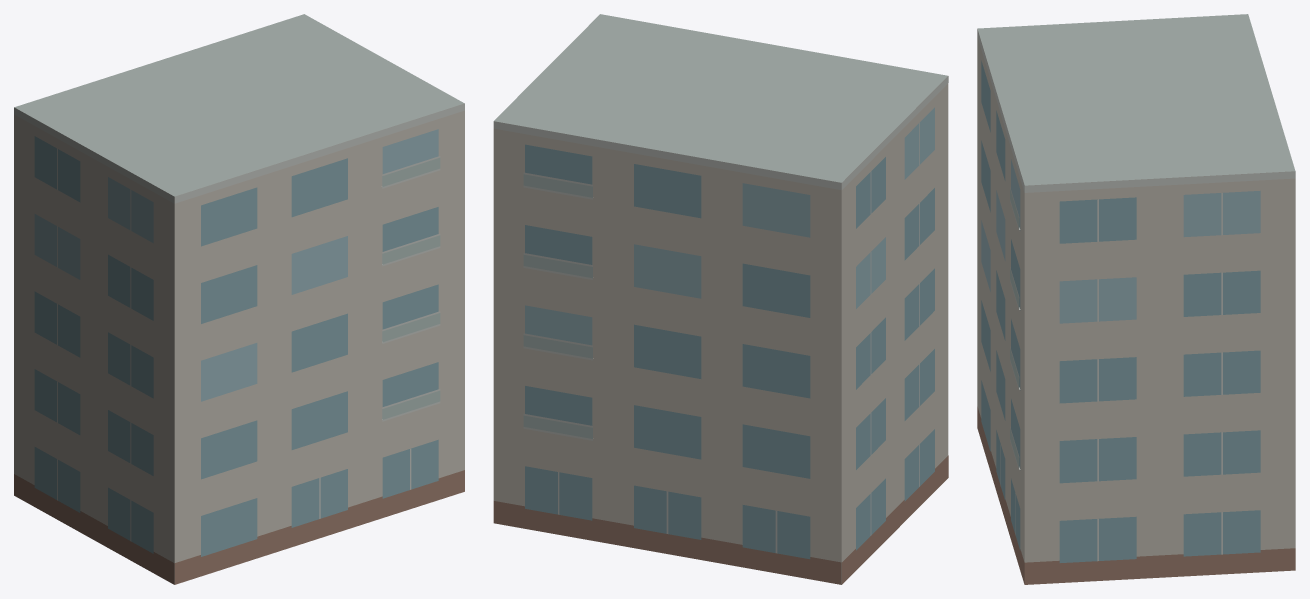
The model's file is survey-upis-32959062.glb.
3 renders of one model, left to right at view 1: azimuth 30°, elevation 25°; view 2: azimuth 150°, elevation 25°; view 3: azimuth 270°, elevation 25°, orthographic. The views are drawn at different scales.
Parts seen in each view (by area): view 1: survey-upis-32959062.tmp; view 2: survey-upis-32959062.tmp; view 3: survey-upis-32959062.tmp.
Boxes of the visible parts, x1,y1,x2,y2 form: survey-upis-32959062.tmp: [14, 14, 464, 584]; survey-upis-32959062.tmp: [493, 14, 948, 584]; survey-upis-32959062.tmp: [977, 14, 1295, 584].
Size of the model in its own units: 12.27 by 13.3 by 9.62.
